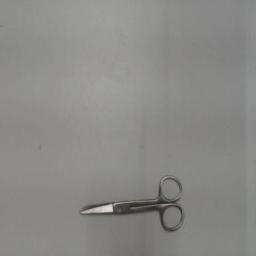Dressing Scissors: (71, 166, 189, 238)
